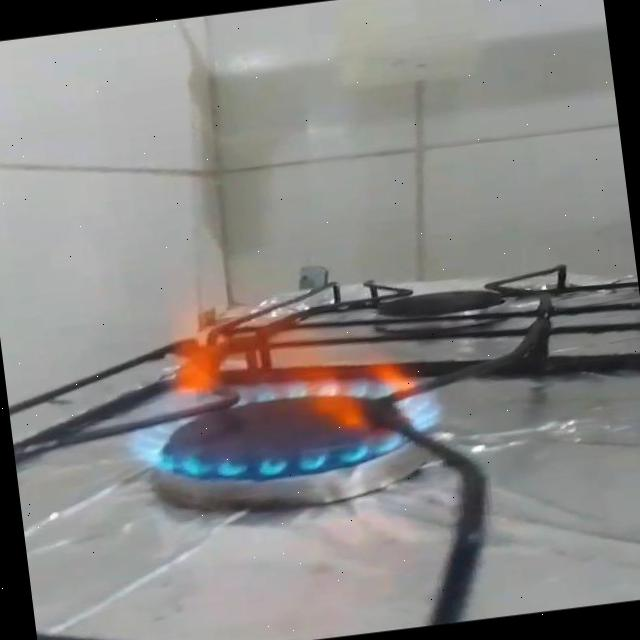fire: (99, 266, 452, 502)
